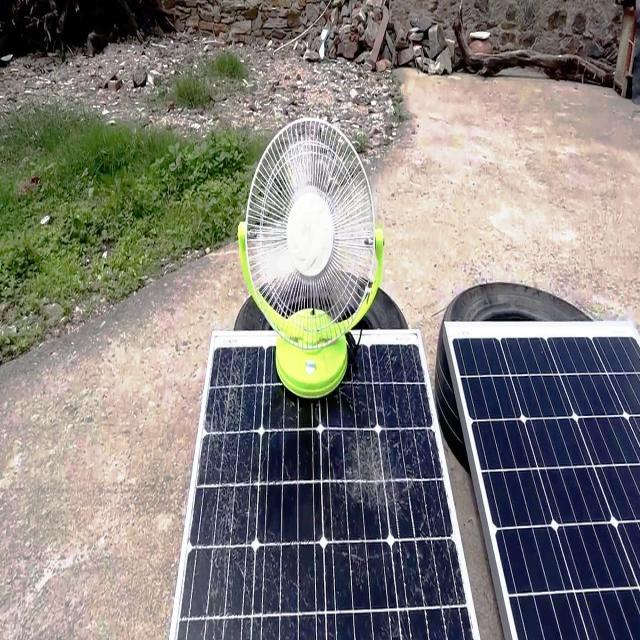faulty: (164, 333, 475, 640)
no faulty: (450, 321, 640, 640)
